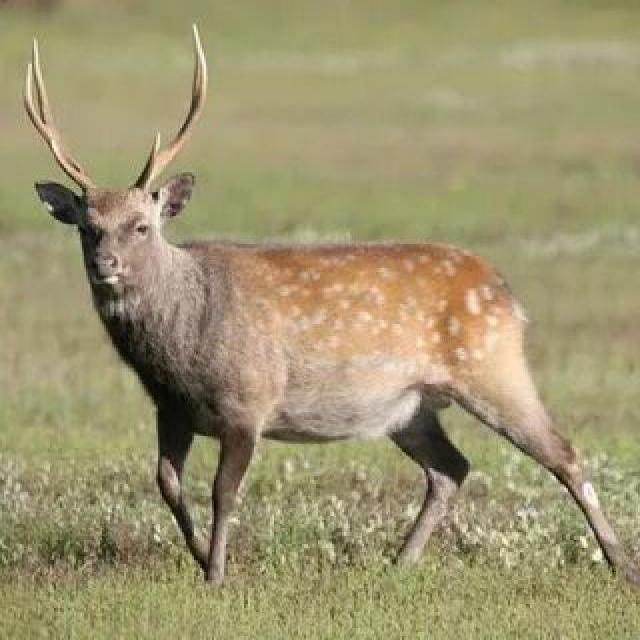deer: (46, 106, 640, 622)
